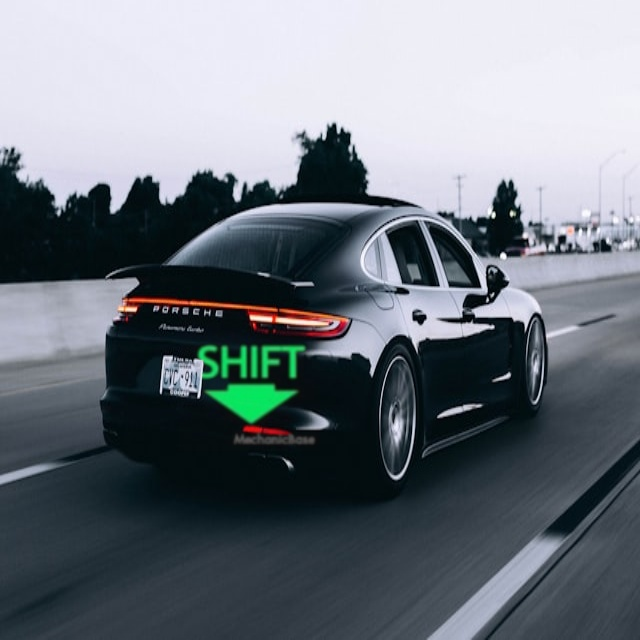symbol: (179, 310, 320, 451)
